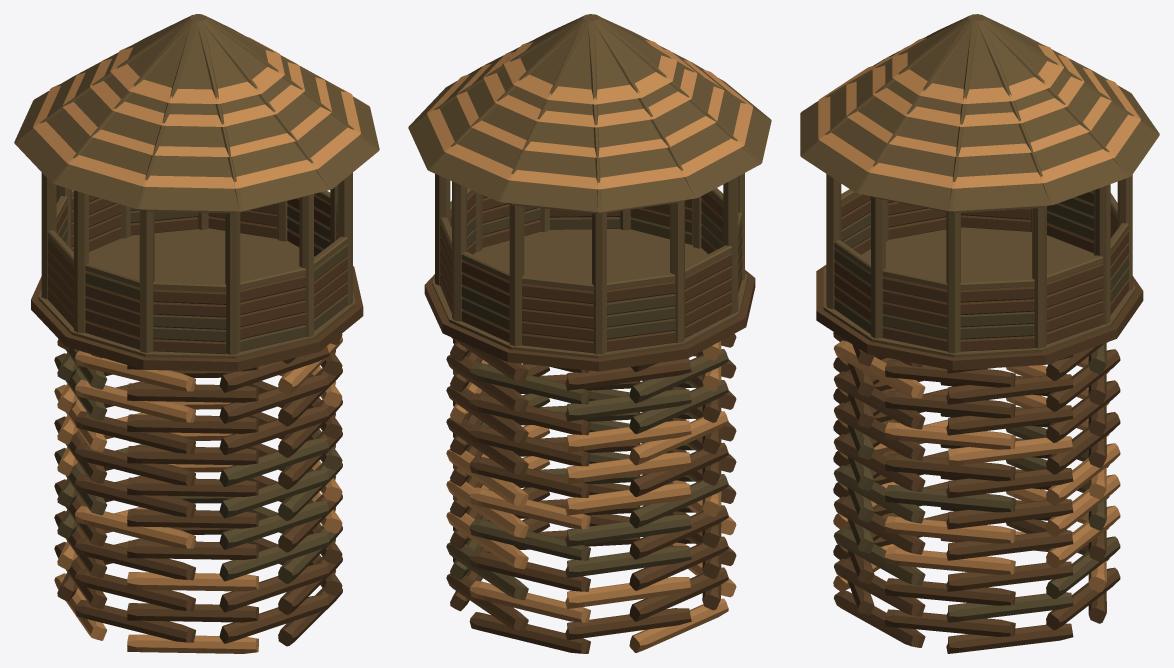
Rendered from Wood_Tower_2_Black.fbx.
The picture shows the model from 3 angles, left to right: view 1: azimuth 30°, elevation 25°; view 2: azimuth 150°, elevation 25°; view 3: azimuth 270°, elevation 25°; orthographic projection.
Visible parts, largest first — view 1: Cylinder.343, Cylinder.222, Cylinder.344, Cylinder.221, Cylinder.345, Cylinder.346, Cylinder.347, Cylinder.230, Cylinder.231, Cylinder.128, Cylinder.198, Cylinder.208 (+66 smaller); view 2: Cylinder.343, Cylinder.222, Cylinder.344, Cylinder.221, Cylinder.345, Cylinder.346, Cylinder.347, Cylinder.182, Cylinder.192, Cylinder.172, Cylinder.132, Cylinder.162 (+64 smaller); view 3: Cylinder.343, Cylinder.222, Cylinder.344, Cylinder.221, Cylinder.345, Cylinder.346, Cylinder.347, Cylinder.185, Cylinder.155, Cylinder.165, Cylinder.135, Cylinder.195 (+67 smaller).
Part boxes in pixels (x1,y1,x2,y2): Cylinder.343: (14,14,379,211); Cylinder.222: (38,228,355,358); Cylinder.344: (33,82,360,188); Cylinder.221: (31,266,363,371); Cylinder.345: (63,72,331,156); Cylinder.346: (90,56,304,126); Cylinder.347: (110,37,284,103); Cylinder.230: (225,212,240,354); Cylinder.231: (139,210,154,352); Cylinder.128: (127,634,258,653); Cylinder.198: (127,414,258,433); Cylinder.208: (127,383,258,402); Cylinder.343: (408,14,771,212); Cylinder.222: (432,229,747,358); Cylinder.344: (427,70,752,189); Cylinder.221: (424,270,755,371); Cylinder.345: (456,60,724,157); Cylinder.346: (483,49,697,127); Cylinder.347: (504,40,677,104); Cylinder.182: (565,452,691,484); Cylinder.192: (565,420,691,452); Cylinder.172: (565,483,691,515); Cylinder.132: (565,608,691,640); Cylinder.162: (565,514,691,546); Cylinder.343: (800,14,1159,211); Cylinder.222: (823,227,1135,357); Cylinder.344: (818,66,1140,188); Cylinder.221: (816,265,1143,370); Cylinder.345: (846,57,1111,156); Cylinder.346: (872,47,1084,126); Cylinder.347: (892,38,1063,103); Cylinder.185: (885,453,1015,481); Cylinder.155: (885,547,1015,574); Cylinder.165: (885,516,1015,543); Cylinder.135: (885,609,1015,636); Cylinder.195: (885,422,1015,449).
Size of the model in its own units: 276 by 486 by 273.
